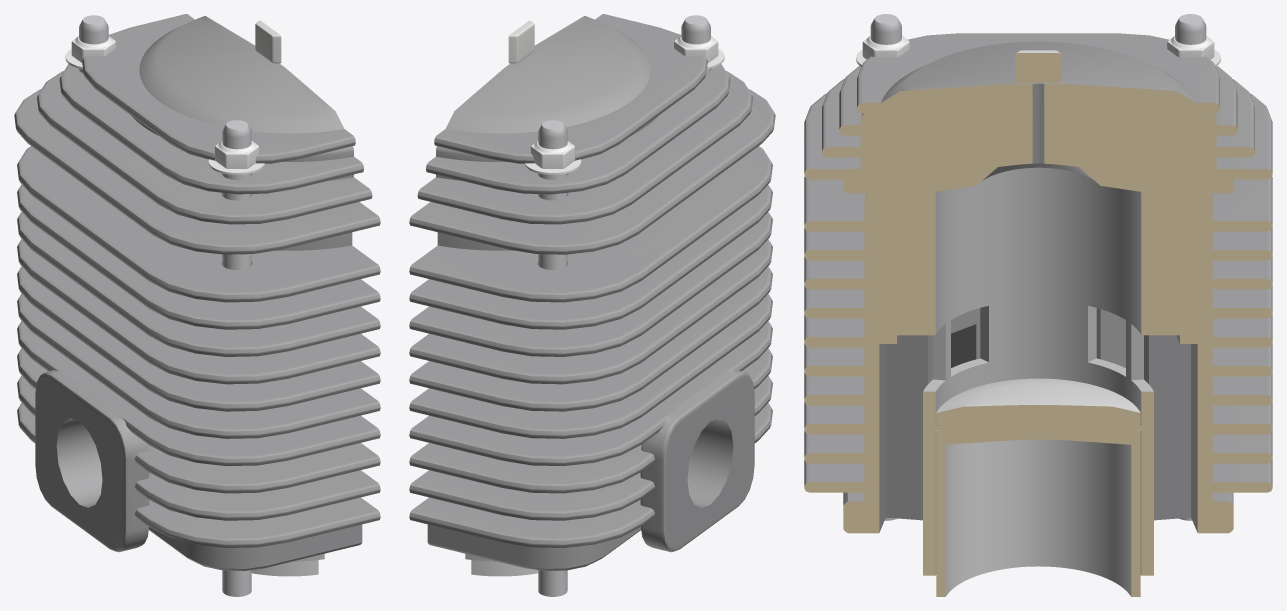
Rendered from port_tr.glb.
The picture shows the model from 3 angles, left to right: view 1: azimuth 30°, elevation 25°; view 2: azimuth 150°, elevation 25°; view 3: azimuth 270°, elevation 25°; orthographic projection. The views are drawn at different scales.
Parts seen in each view (by area): view 1: port_tr__barrel, port_tr__head, port_tr__studs, port_tr__head_nuts, port_tr__spark_plug, port_tr__piston; view 2: port_tr__barrel, port_tr__head, port_tr__studs, port_tr__head_nuts, port_tr__spark_plug, port_tr__piston; view 3: port_tr__barrel, port_tr__head, port_tr__liner, port_tr__piston, port_tr__studs, port_tr__head_nuts, port_tr__spark_plug.
Boxes of the visible parts, x1,y1,x2,y2 form: port_tr__barrel: (17, 146, 380, 571); port_tr__head: (14, 14, 380, 254); port_tr__studs: (79, 15, 251, 596); port_tr__head_nuts: (65, 36, 265, 174); port_tr__spark_plug: (255, 20, 281, 63); port_tr__piston: (251, 560, 318, 576); port_tr__barrel: (409, 146, 772, 571); port_tr__head: (409, 14, 775, 254); port_tr__studs: (538, 15, 710, 596); port_tr__head_nuts: (524, 36, 724, 174); port_tr__spark_plug: (508, 20, 534, 63); port_tr__piston: (471, 560, 538, 576); port_tr__barrel: (804, 176, 1272, 533); port_tr__head: (804, 33, 1272, 193); port_tr__liner: (923, 167, 1153, 575); port_tr__piston: (935, 378, 1141, 596); port_tr__studs: (870, 14, 1206, 520); port_tr__head_nuts: (856, 36, 1220, 66); port_tr__spark_plug: (1015, 50, 1061, 82).
Bounding box in the file's own units: 6 × 15.37 × 12.
